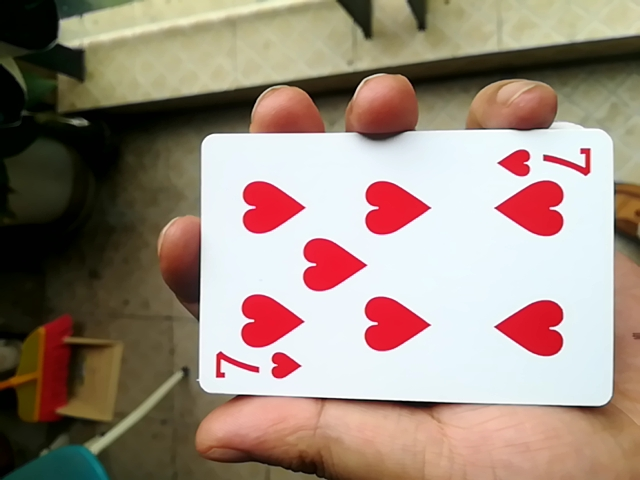hx 7: (185, 127, 611, 405)
